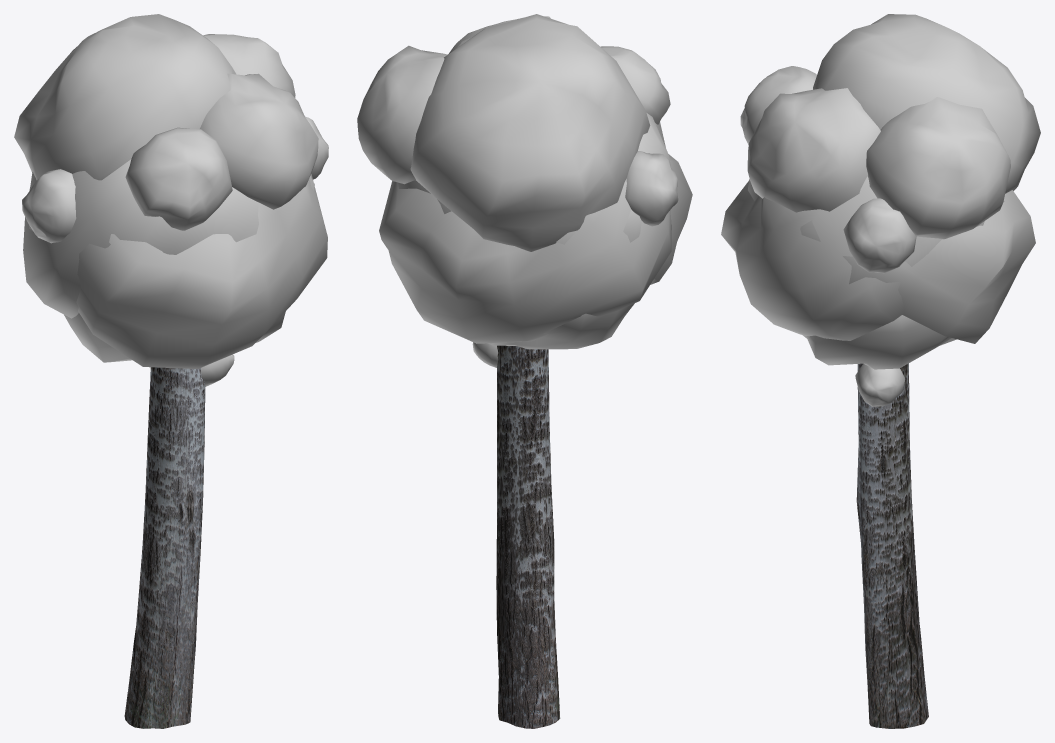
File: geo_Tree.fbx
3 renders of one model, left to right at view 1: azimuth 30°, elevation 25°; view 2: azimuth 150°, elevation 25°; view 3: azimuth 270°, elevation 25°, orthographic.
Visible parts, largest first — view 1: geo_Tree; view 2: geo_Tree; view 3: geo_Tree.
Boxes of the visible parts, left/top/right/bottom form: geo_Tree: left=14, top=14, right=328, bottom=728; geo_Tree: left=357, top=14, right=692, bottom=728; geo_Tree: left=721, top=14, right=1040, bottom=728.
Bounding box in the file's own units: 257 × 575 × 244.
